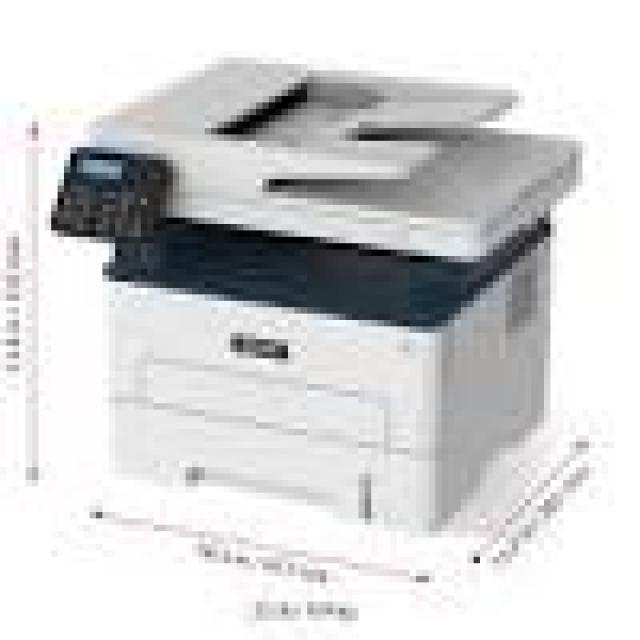printer: (39, 39, 592, 596)
